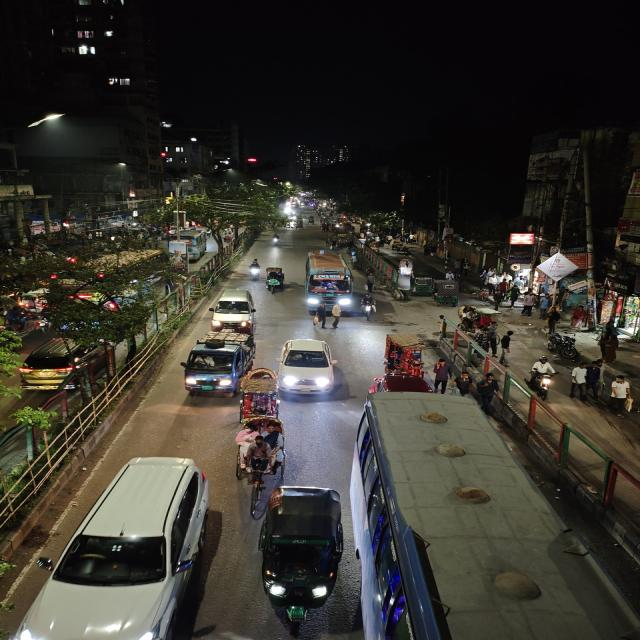bus: (349, 397, 602, 640), (302, 250, 357, 310)
car: (26, 454, 226, 640), (16, 336, 90, 392), (276, 336, 338, 402), (208, 288, 257, 327)
cng: (256, 482, 346, 624), (429, 278, 462, 307)
motorcycle: (527, 356, 560, 402), (358, 293, 378, 323), (247, 257, 263, 281), (270, 232, 282, 246)
pedestrian: (608, 374, 634, 416), (596, 324, 622, 363), (567, 362, 591, 403), (475, 374, 502, 408), (584, 359, 604, 400), (431, 357, 452, 395), (496, 330, 515, 363), (544, 304, 563, 334), (456, 370, 476, 398), (520, 288, 537, 318), (310, 301, 328, 329), (328, 299, 342, 330)
pickup_van: (178, 329, 254, 399)
rickshaw: (233, 433, 287, 491), (237, 366, 278, 422), (382, 331, 429, 379), (264, 266, 287, 294)
